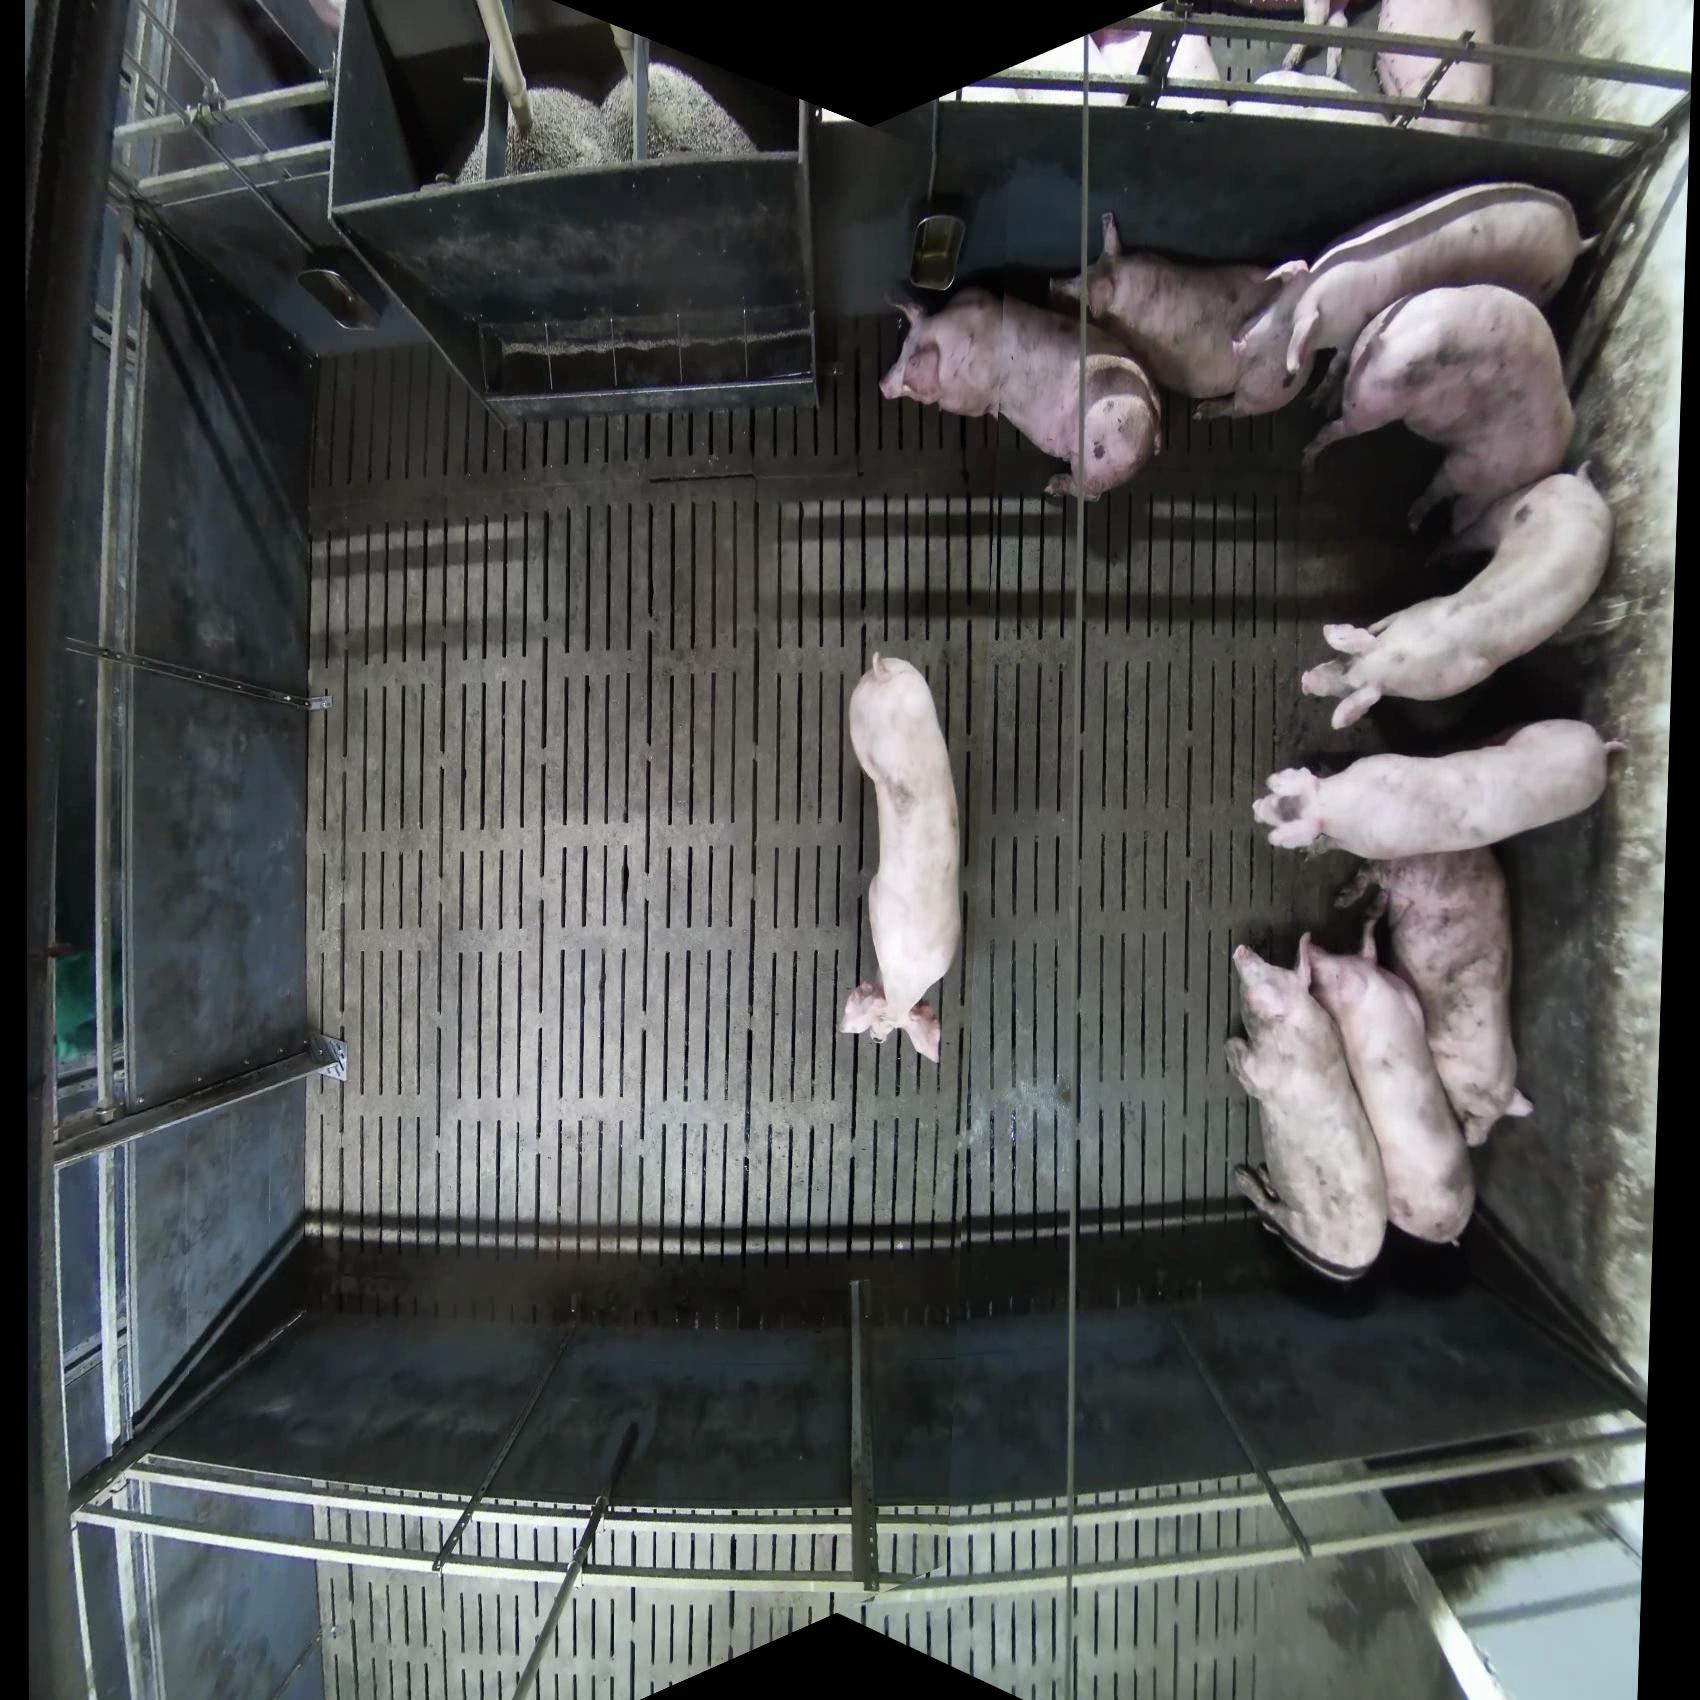pig: (1214, 179, 1589, 420), (1300, 459, 1614, 732), (1300, 283, 1579, 540), (878, 279, 1164, 504), (1336, 845, 1537, 1149), (1298, 926, 1477, 1249), (1224, 940, 1390, 1284), (1252, 718, 1628, 862), (1048, 209, 1305, 417), (839, 652, 964, 1065), (1375, 2, 1498, 137), (1090, 23, 1228, 117), (1231, 67, 1382, 125), (1281, 2, 1356, 86)
